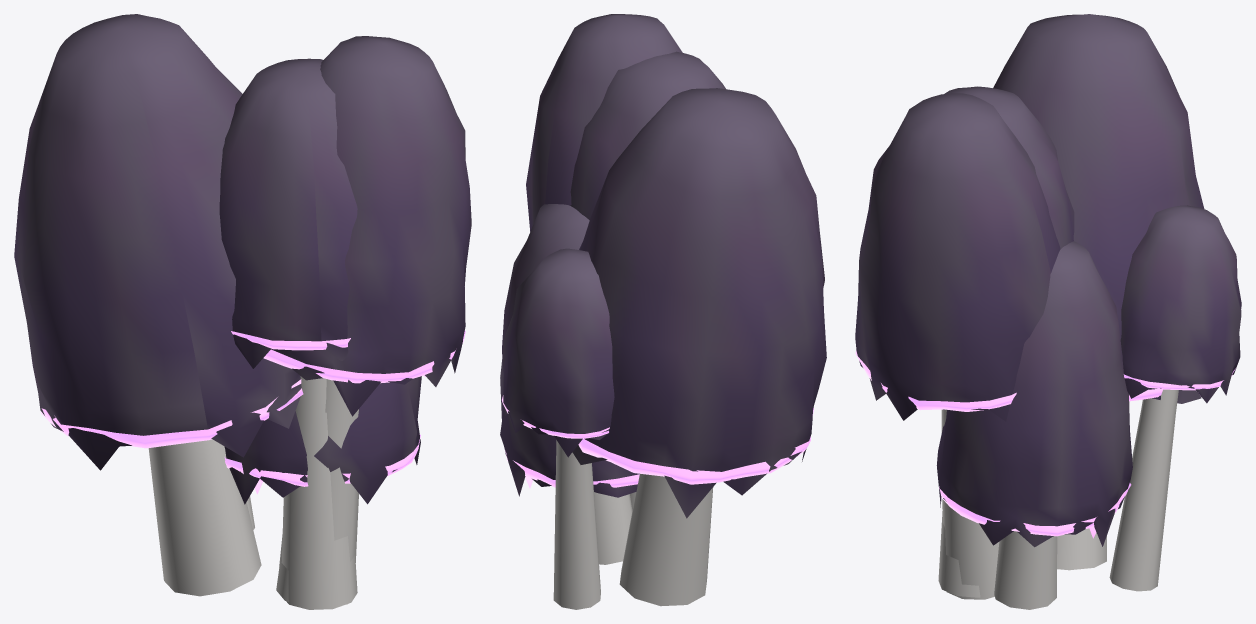
File: inkcap_a.glb
3 views of the same model, side by side, from view 1: azimuth 30°, elevation 25°; view 2: azimuth 150°, elevation 25°; view 3: azimuth 270°, elevation 25° (orthographic). The views are drawn at different scales.
Parts seen in each view (by area): view 1: inkcap_a; view 2: inkcap_a; view 3: inkcap_a.
Part boxes in pixels (x1,y1,x2,y2): inkcap_a: [14, 14, 471, 609]; inkcap_a: [500, 14, 826, 609]; inkcap_a: [855, 14, 1241, 609].
Bounding box in the file's own units: 1.09 × 1.6 × 1.09.
